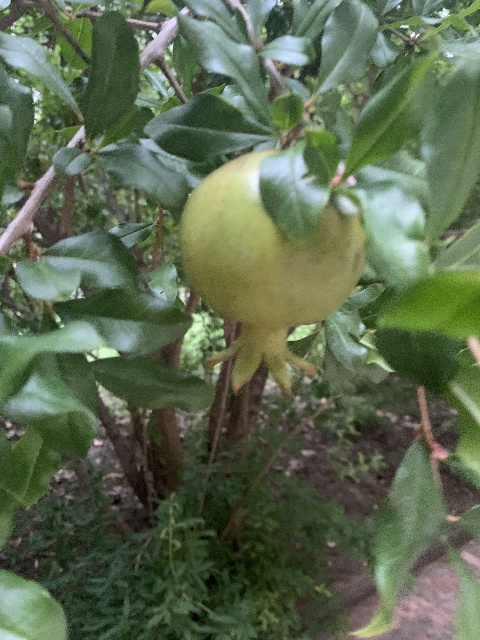mid-growth: (178, 147, 368, 400)
